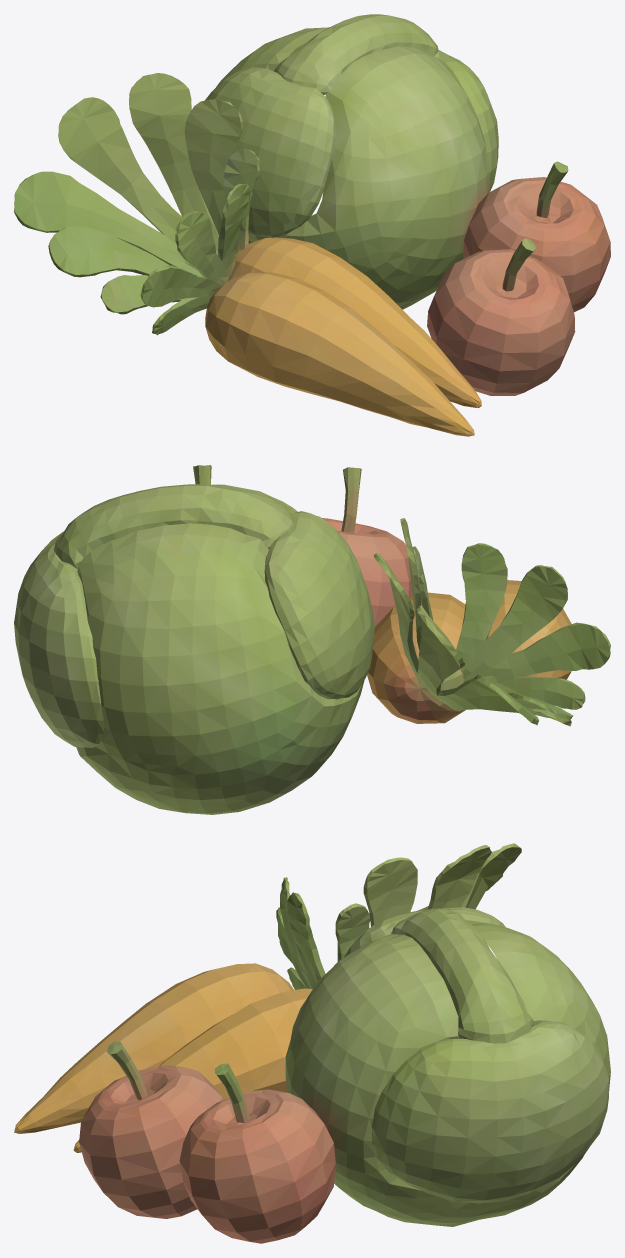
The model's file is veggies.glb.
3 renders of one model, top to bottom at view 1: azimuth 30°, elevation 25°; view 2: azimuth 150°, elevation 25°; view 3: azimuth 270°, elevation 25°, orthographic. The views are drawn at different scales.
Parts seen in each view (by area): view 1: geometry_0; view 2: geometry_0; view 3: geometry_0.
Part boxes in pixels (box(x1,y1,x2,y2)): geometry_0: box(14, 14, 610, 436); geometry_0: box(14, 465, 610, 814); geometry_0: box(14, 843, 610, 1243).
Size of the model in its own units: 0.1528 by 0.084 by 0.1567.
